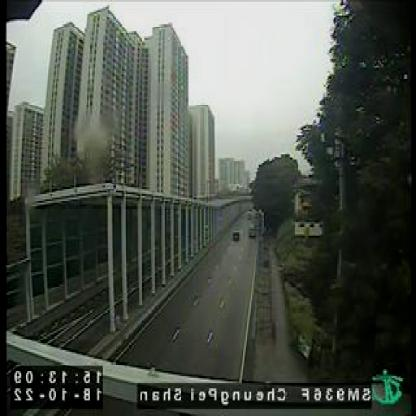Car: (248, 222, 258, 238), (231, 230, 240, 242)
